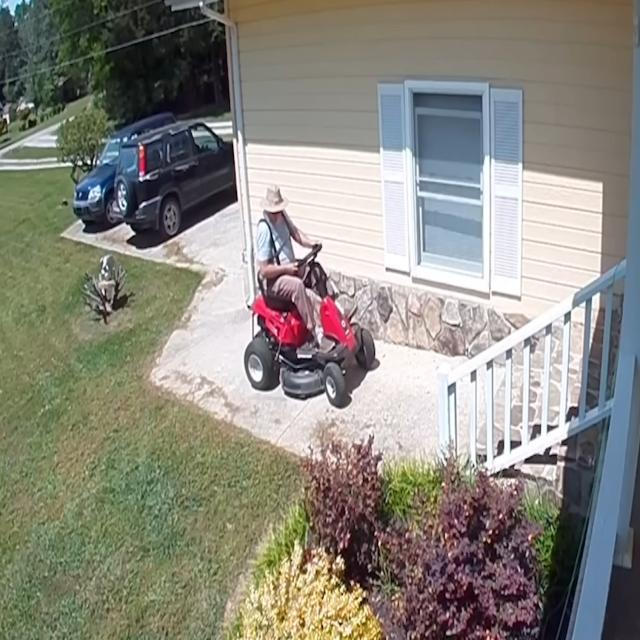sitting: (257, 185, 330, 350)
